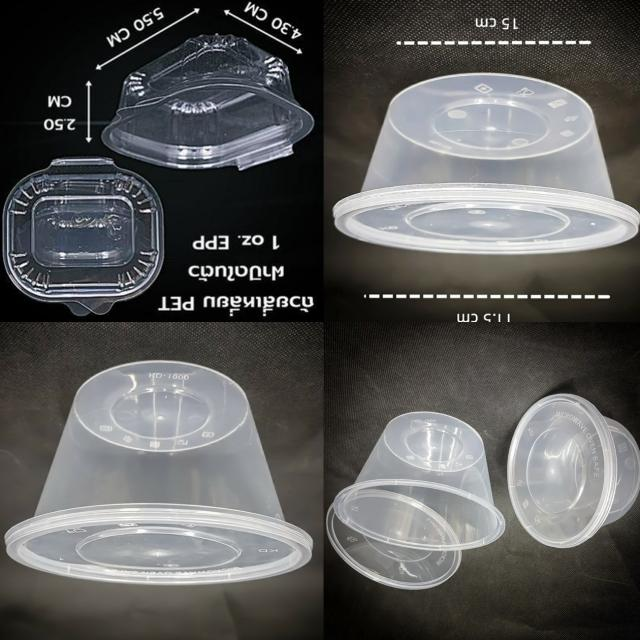plastik: (5, 360, 312, 585), (332, 73, 640, 255), (101, 34, 313, 170), (4, 158, 164, 316), (335, 412, 505, 551), (508, 395, 640, 548), (326, 488, 461, 590)
